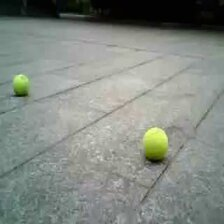tennis: (141, 127, 168, 159), (13, 75, 28, 95)
